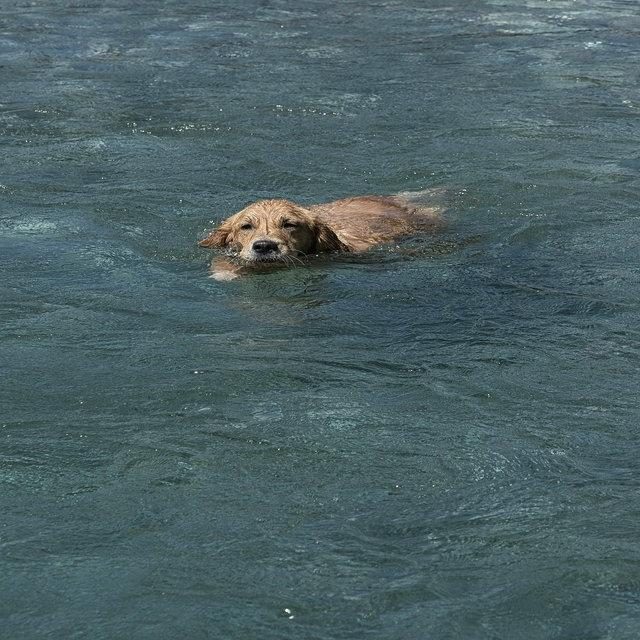retriever: (195, 184, 449, 282)
